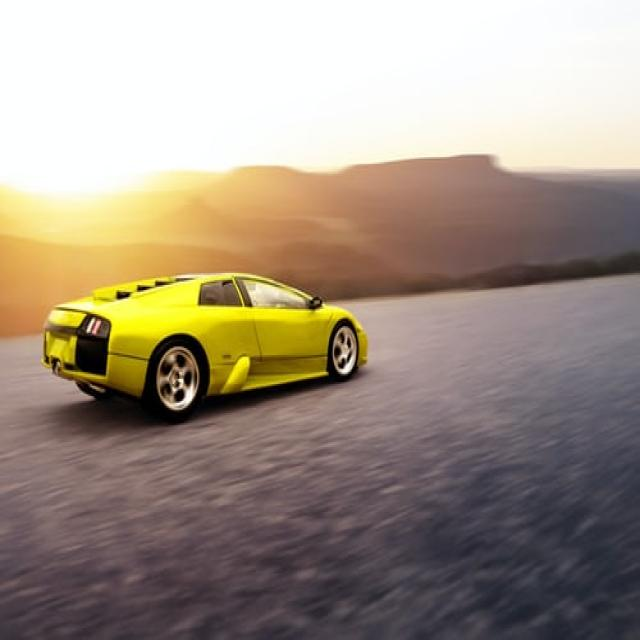Car: (42, 273, 367, 420)
